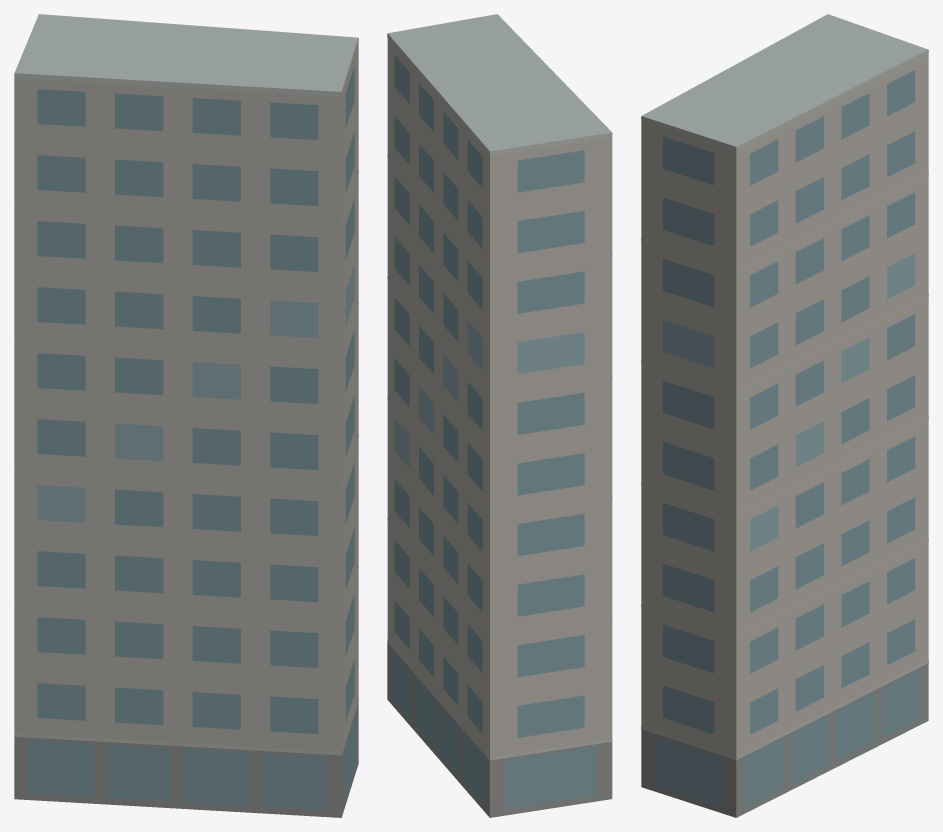
File: survey-upis-32986061.glb
3 views of the same model, side by side, from view 1: azimuth 30°, elevation 25°; view 2: azimuth 150°, elevation 25°; view 3: azimuth 270°, elevation 25° (orthographic). The views are drawn at different scales.
Parts seen in each view (by area): view 1: survey-upis-32986061.tmp; view 2: survey-upis-32986061.tmp; view 3: survey-upis-32986061.tmp.
Boxes of the visible parts, x1=… form: survey-upis-32986061.tmp: x1=14, y1=14, x2=358, y2=817; survey-upis-32986061.tmp: x1=387, y1=14, x2=612, y2=817; survey-upis-32986061.tmp: x1=641, y1=14, x2=928, y2=817.
Size of the model in its own units: 14.26 by 33.55 by 13.04.
